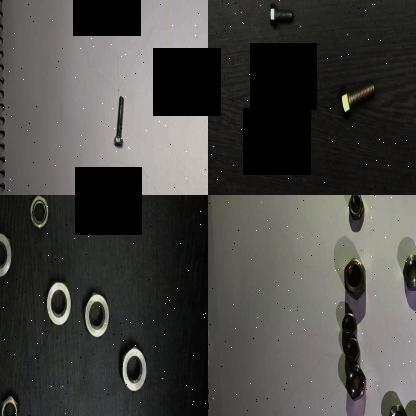Bolts: (336, 76, 377, 122), (255, 101, 279, 156), (109, 91, 128, 150), (266, 1, 292, 31), (294, 75, 312, 115)
NUTS: (78, 281, 112, 345), (118, 341, 148, 395), (43, 275, 72, 329), (341, 252, 368, 300), (342, 362, 366, 400), (0, 225, 16, 281), (27, 195, 51, 228), (338, 309, 360, 342), (0, 387, 23, 416), (401, 252, 416, 292), (345, 195, 364, 222), (342, 336, 360, 364), (383, 404, 409, 416)
